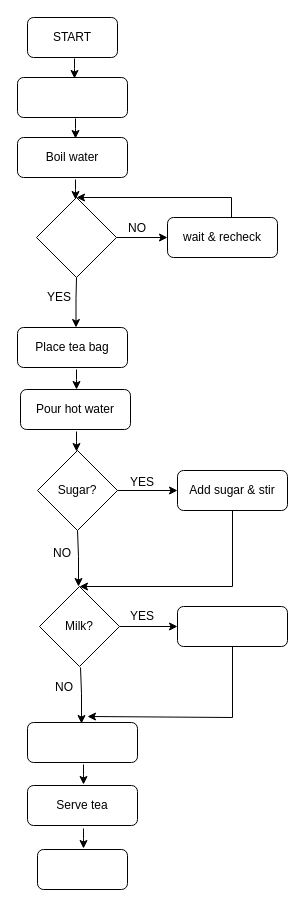
Some shapes in this 305 by 907 pixel diagram are drawn without their labels. Each missing label, with the centre of its shape:
"Add milk & stir" belongs at point (232, 626).
"Boiled?" belongs at point (76, 237).
"END" belongs at point (82, 869).
"Fill kettle" belongs at point (72, 97).
"Remove tea bag" belongs at point (82, 742).
